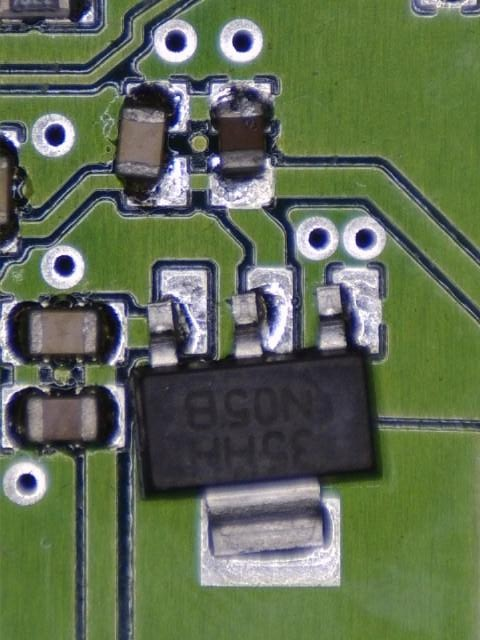pcb_defect: (133, 267, 380, 588), (116, 84, 188, 207)
